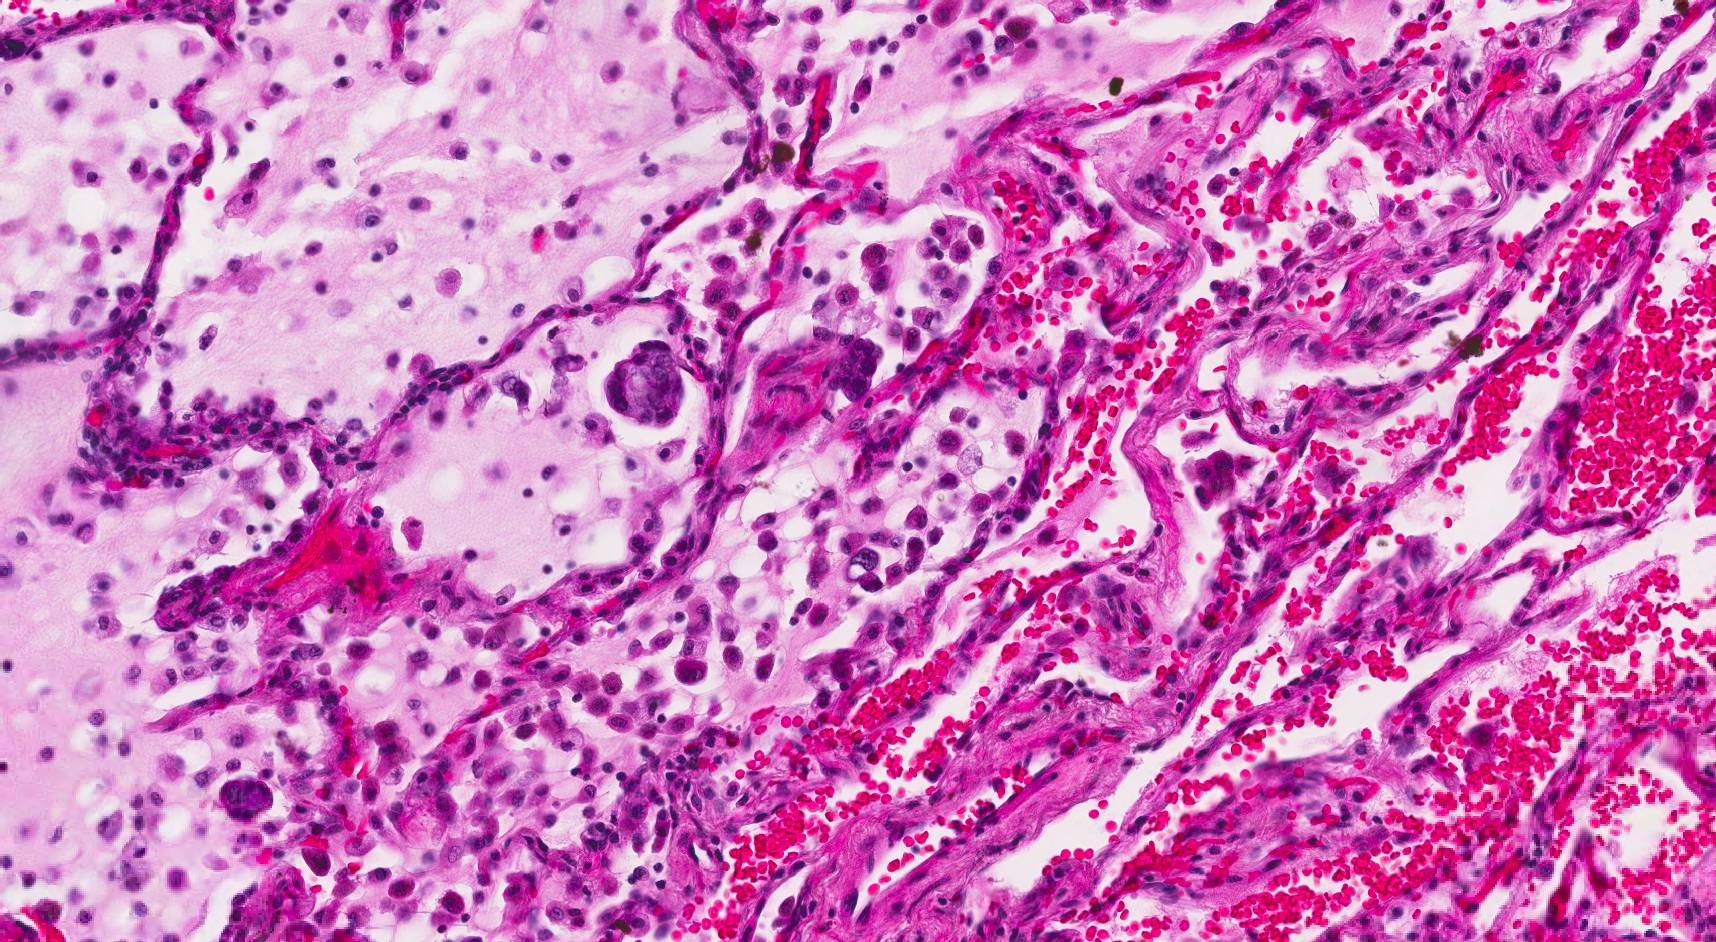stas: (602, 341, 685, 428), (217, 777, 274, 827), (842, 546, 883, 588)
